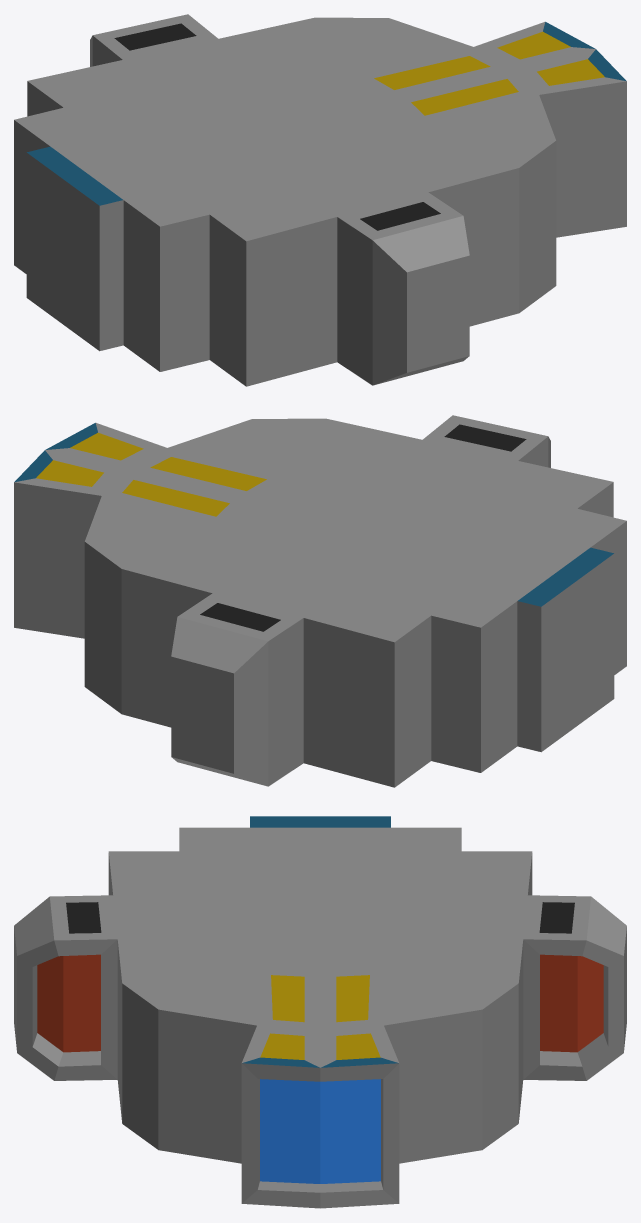
File: USS_Defiant.fbx
The picture shows the model from 3 angles, top to bottom: view 1: azimuth 30°, elevation 25°; view 2: azimuth 150°, elevation 25°; view 3: azimuth 270°, elevation 25°; orthographic projection. The views are drawn at different scales.
Visible parts, largest first — view 1: Cube; view 2: Cube; view 3: Cube.
Boxes of the visible parts, box(x1,y1,x2,y2) form: Cube: box(14, 14, 626, 386); Cube: box(14, 415, 626, 787); Cube: box(14, 816, 626, 1208).
Size of the model in its own units: 421 by 110 by 434.
